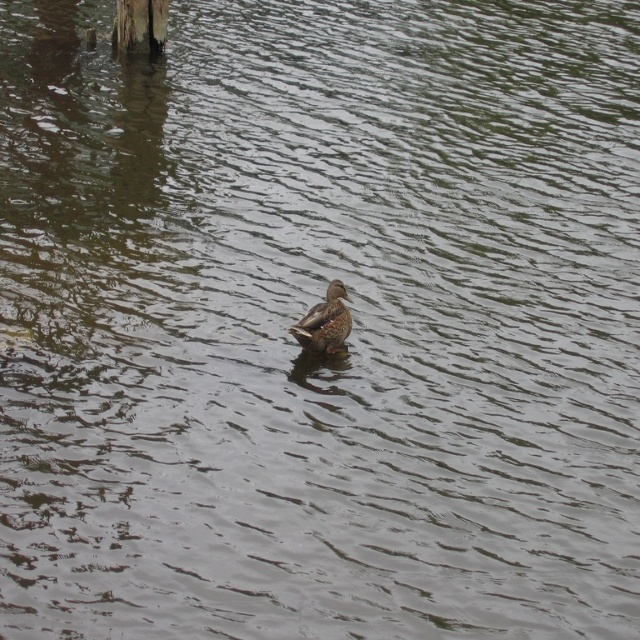Duck: (285, 274, 355, 359)
